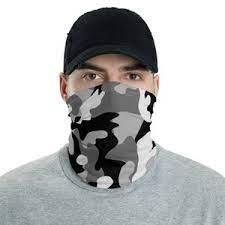cap: (59, 2, 169, 88)
scarf-kerchief: (61, 75, 163, 188)
